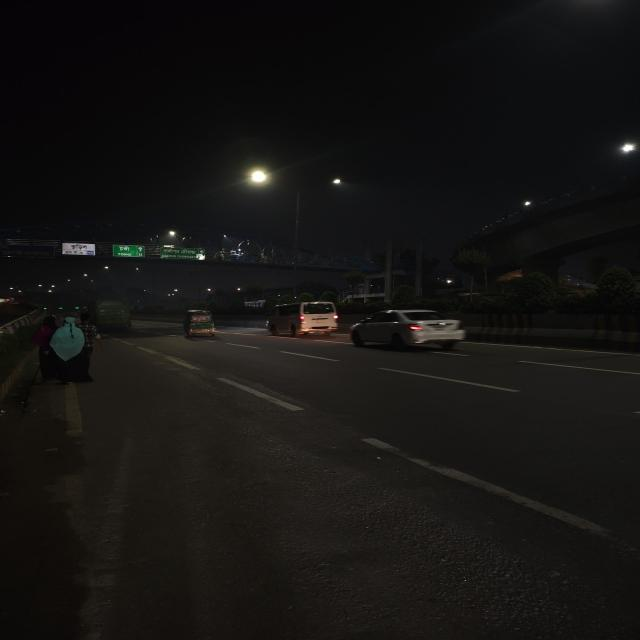bus: (92, 298, 137, 330)
car: (348, 306, 472, 352), (261, 298, 342, 336)
cng: (174, 307, 225, 343)
pedestrian: (52, 320, 93, 384)
